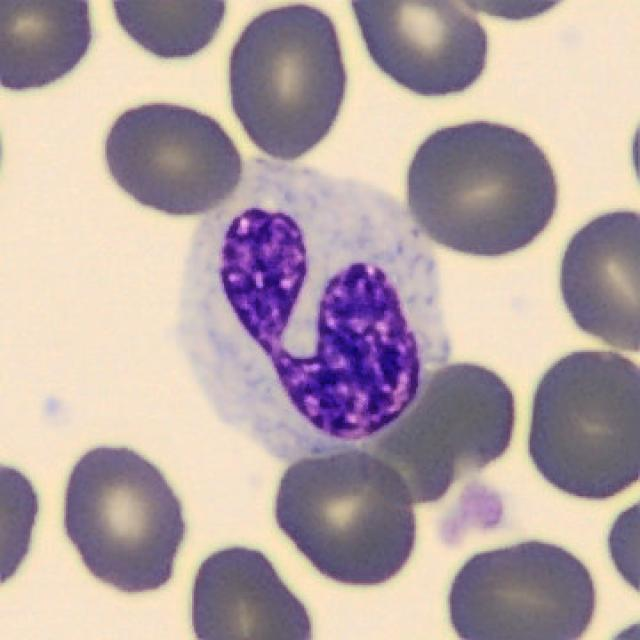Linfocito atipico: (176, 162, 450, 462)
